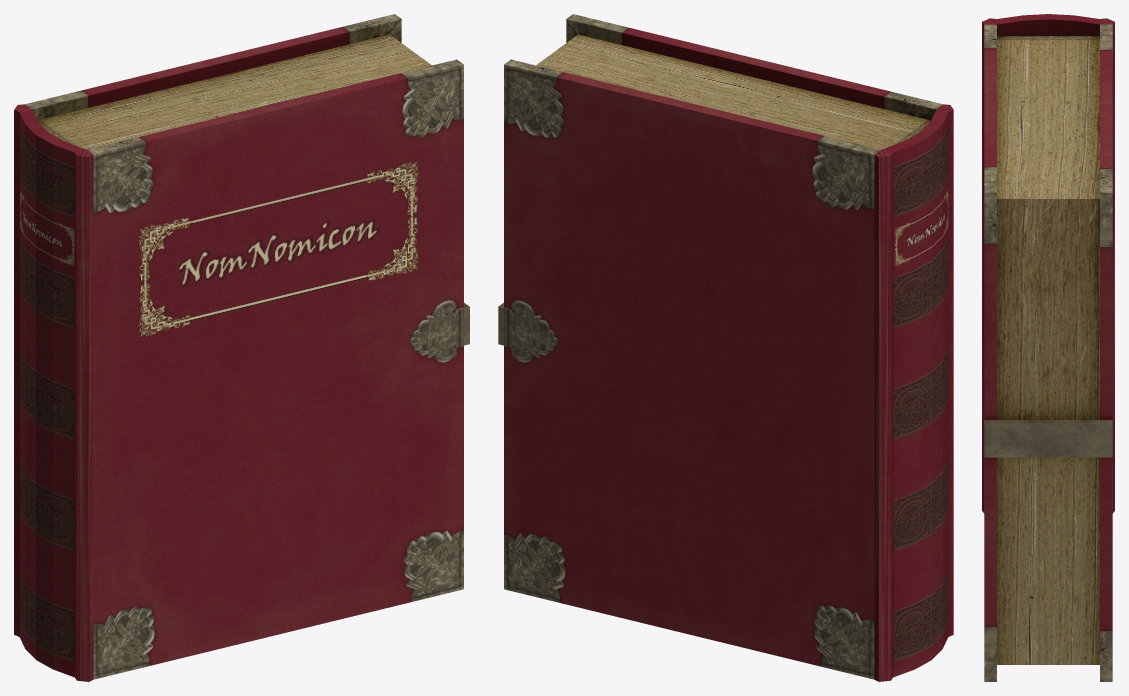
The model's file is book_red.obj.
3 renders of one model, left to right at view 1: azimuth 30°, elevation 25°; view 2: azimuth 150°, elevation 25°; view 3: azimuth 270°, elevation 25°, orthographic. The views are drawn at different scales.
Visible parts, largest first — view 1: Default; view 2: Default; view 3: Default.
Part boxes in pixels (<box>): Default: <box>14,14,469,681</box>; Default: <box>498,14,953,681</box>; Default: <box>982,14,1114,681</box>.
Bounding box in the file's own units: 0.3343 × 0.42 × 0.1034.
1 material, 1 textured.
